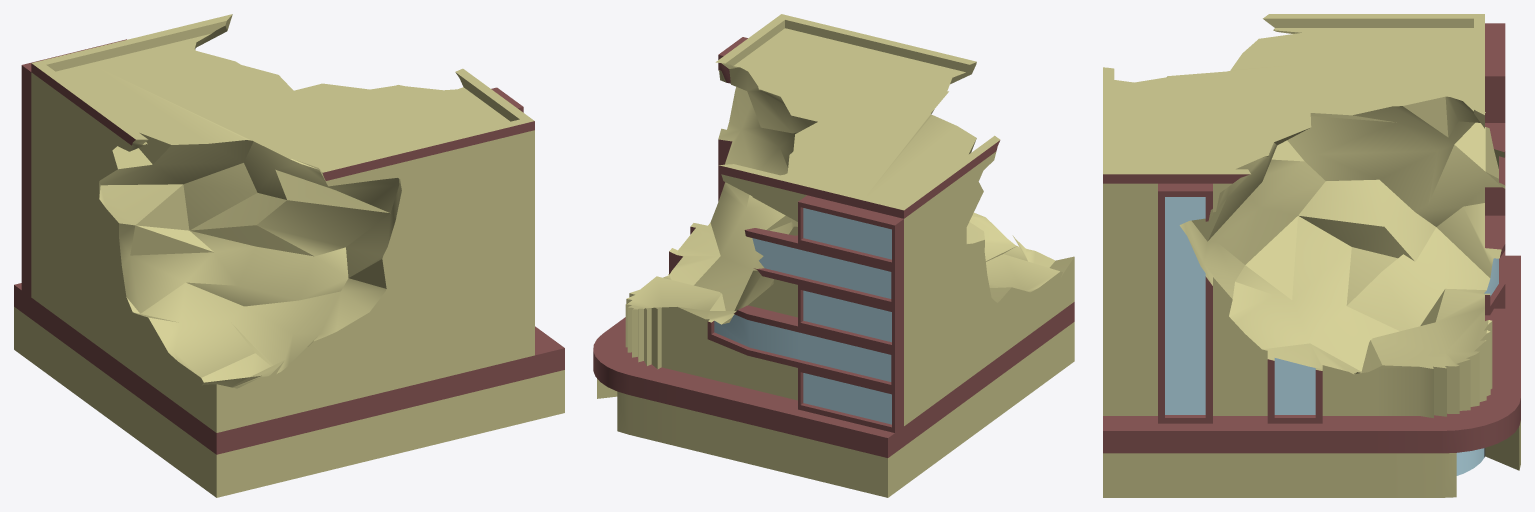
3 renders of one model, left to right at view 1: azimuth 30°, elevation 25°; view 2: azimuth 150°, elevation 25°; view 3: azimuth 270°, elevation 25°, orthographic. The views are drawn at different scales.
Parts seen in each view (by area): view 1: Cube.008; view 2: Cube.008; view 3: Cube.008.
Boxes of the visible parts, box(x1,y1,x2,y2) form: Cube.008: box(14, 14, 564, 497); Cube.008: box(593, 14, 1074, 497); Cube.008: box(1103, 14, 1520, 497).
Size of the model in its own units: 397 by 400 by 326.
